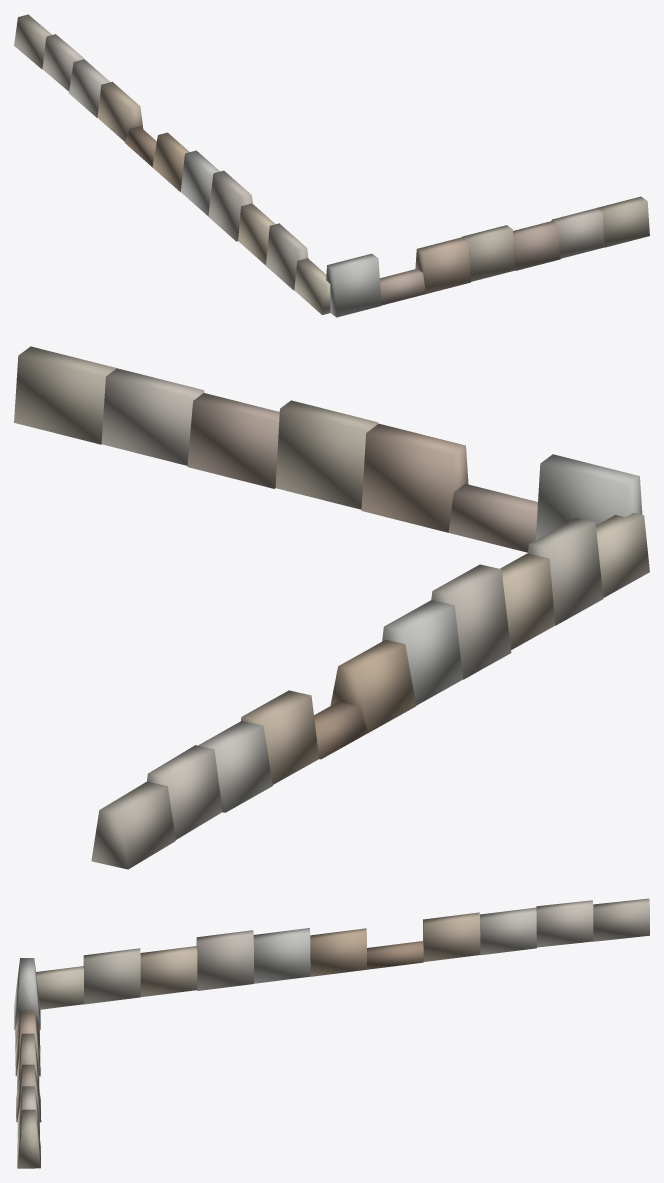
File: farm_36_34_collision.glb
3 renders of one model, top to bottom at view 1: azimuth 30°, elevation 25°; view 2: azimuth 150°, elevation 25°; view 3: azimuth 270°, elevation 25°, orthographic. The views are drawn at different scales.
Visible parts, largest first — view 1: geometry_0; view 2: geometry_0; view 3: geometry_0.
Boxes of the visible parts, x1=… form: geometry_0: x1=14, y1=14, x2=649, y2=317; geometry_0: x1=14, y1=346, x2=649, y2=869; geometry_0: x1=14, y1=898, x2=649, y2=1168.
Bounding box in the file's own units: 12 × 3.01 × 17.97.
